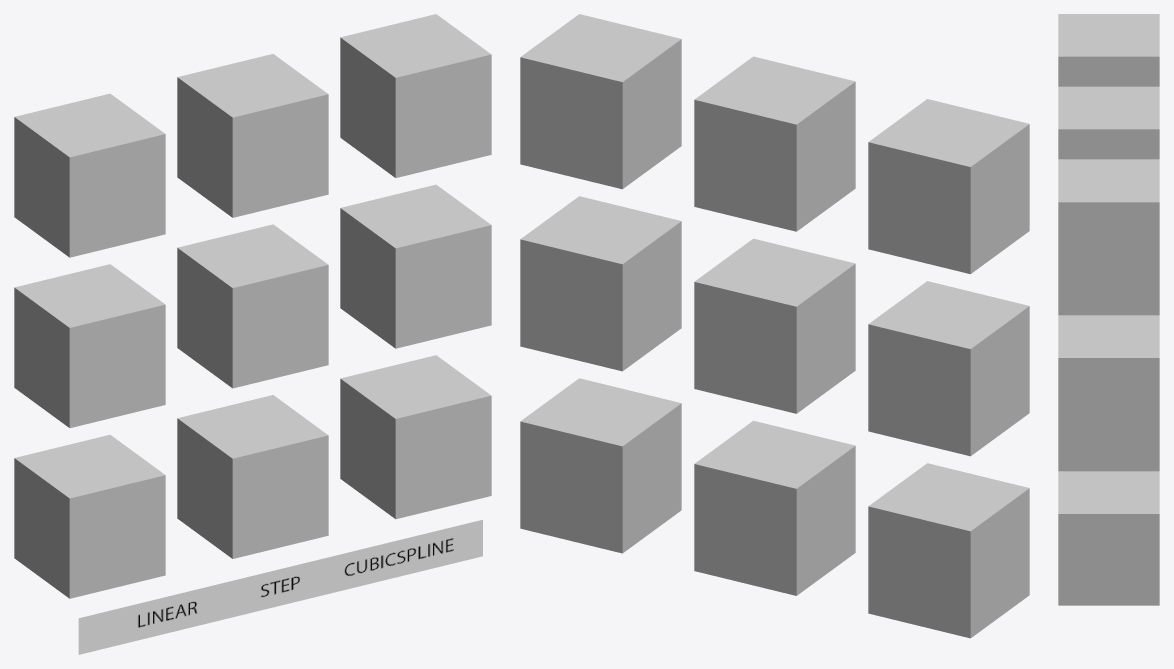
File: InterpolationTestLOD.glb
3 renders of one model, left to right at view 1: azimuth 30°, elevation 25°; view 2: azimuth 150°, elevation 25°; view 3: azimuth 270°, elevation 25°, orthographic. The views are drawn at different scales.
Parts seen in each view (by area): view 1: Cube.003, Cube, Cube.009, Cube.001, Cube.002, Cube.005, Cube.004, Cube.006, Cube.008, Plane; view 2: Cube.003, Cube.004, Cube.005, Cube.001, Cube.006, Cube.008, Cube, Cube.002, Cube.009; view 3: Cube.002, Cube.004, Cube.008, Cube.006, Cube.009, Cube, Cube.003.
Part boxes in pixels (bbox=[...]): Cube.003: bbox=[177, 224, 328, 388]; Cube: bbox=[177, 395, 328, 558]; Cube.009: bbox=[14, 93, 165, 257]; Cube.001: bbox=[14, 434, 165, 598]; Cube.002: bbox=[340, 355, 491, 519]; Cube.005: bbox=[14, 264, 165, 427]; Cube.004: bbox=[340, 184, 491, 348]; Cube.006: bbox=[177, 54, 328, 217]; Cube.008: bbox=[340, 14, 491, 177]; Plane: bbox=[78, 519, 482, 654]; Cube.003: bbox=[694, 238, 855, 413]; Cube.004: bbox=[520, 196, 681, 371]; Cube.005: bbox=[868, 281, 1029, 456]; Cube.001: bbox=[868, 463, 1029, 638]; Cube.006: bbox=[694, 56, 855, 231]; Cube.008: bbox=[520, 14, 681, 189]; Cube: bbox=[694, 420, 855, 595]; Cube.002: bbox=[520, 378, 681, 553]; Cube.009: bbox=[868, 99, 1029, 273]; Cube.002: bbox=[1058, 471, 1159, 605]; Cube.004: bbox=[1058, 315, 1159, 449]; Cube.008: bbox=[1058, 159, 1159, 293]; Cube.006: bbox=[1058, 86, 1159, 159]; Cube.009: bbox=[1058, 14, 1159, 86]; Cube: bbox=[1058, 449, 1159, 471]; Cube.003: bbox=[1058, 294, 1159, 315].
Bounding box in the file's own units: 8.8 × 9.96 × 2.
2 materials, 1 textured.
